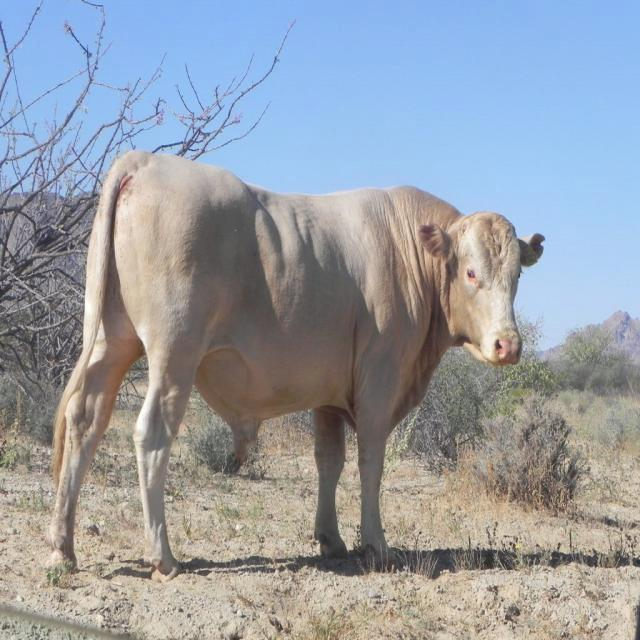cow: (50, 151, 542, 579)
